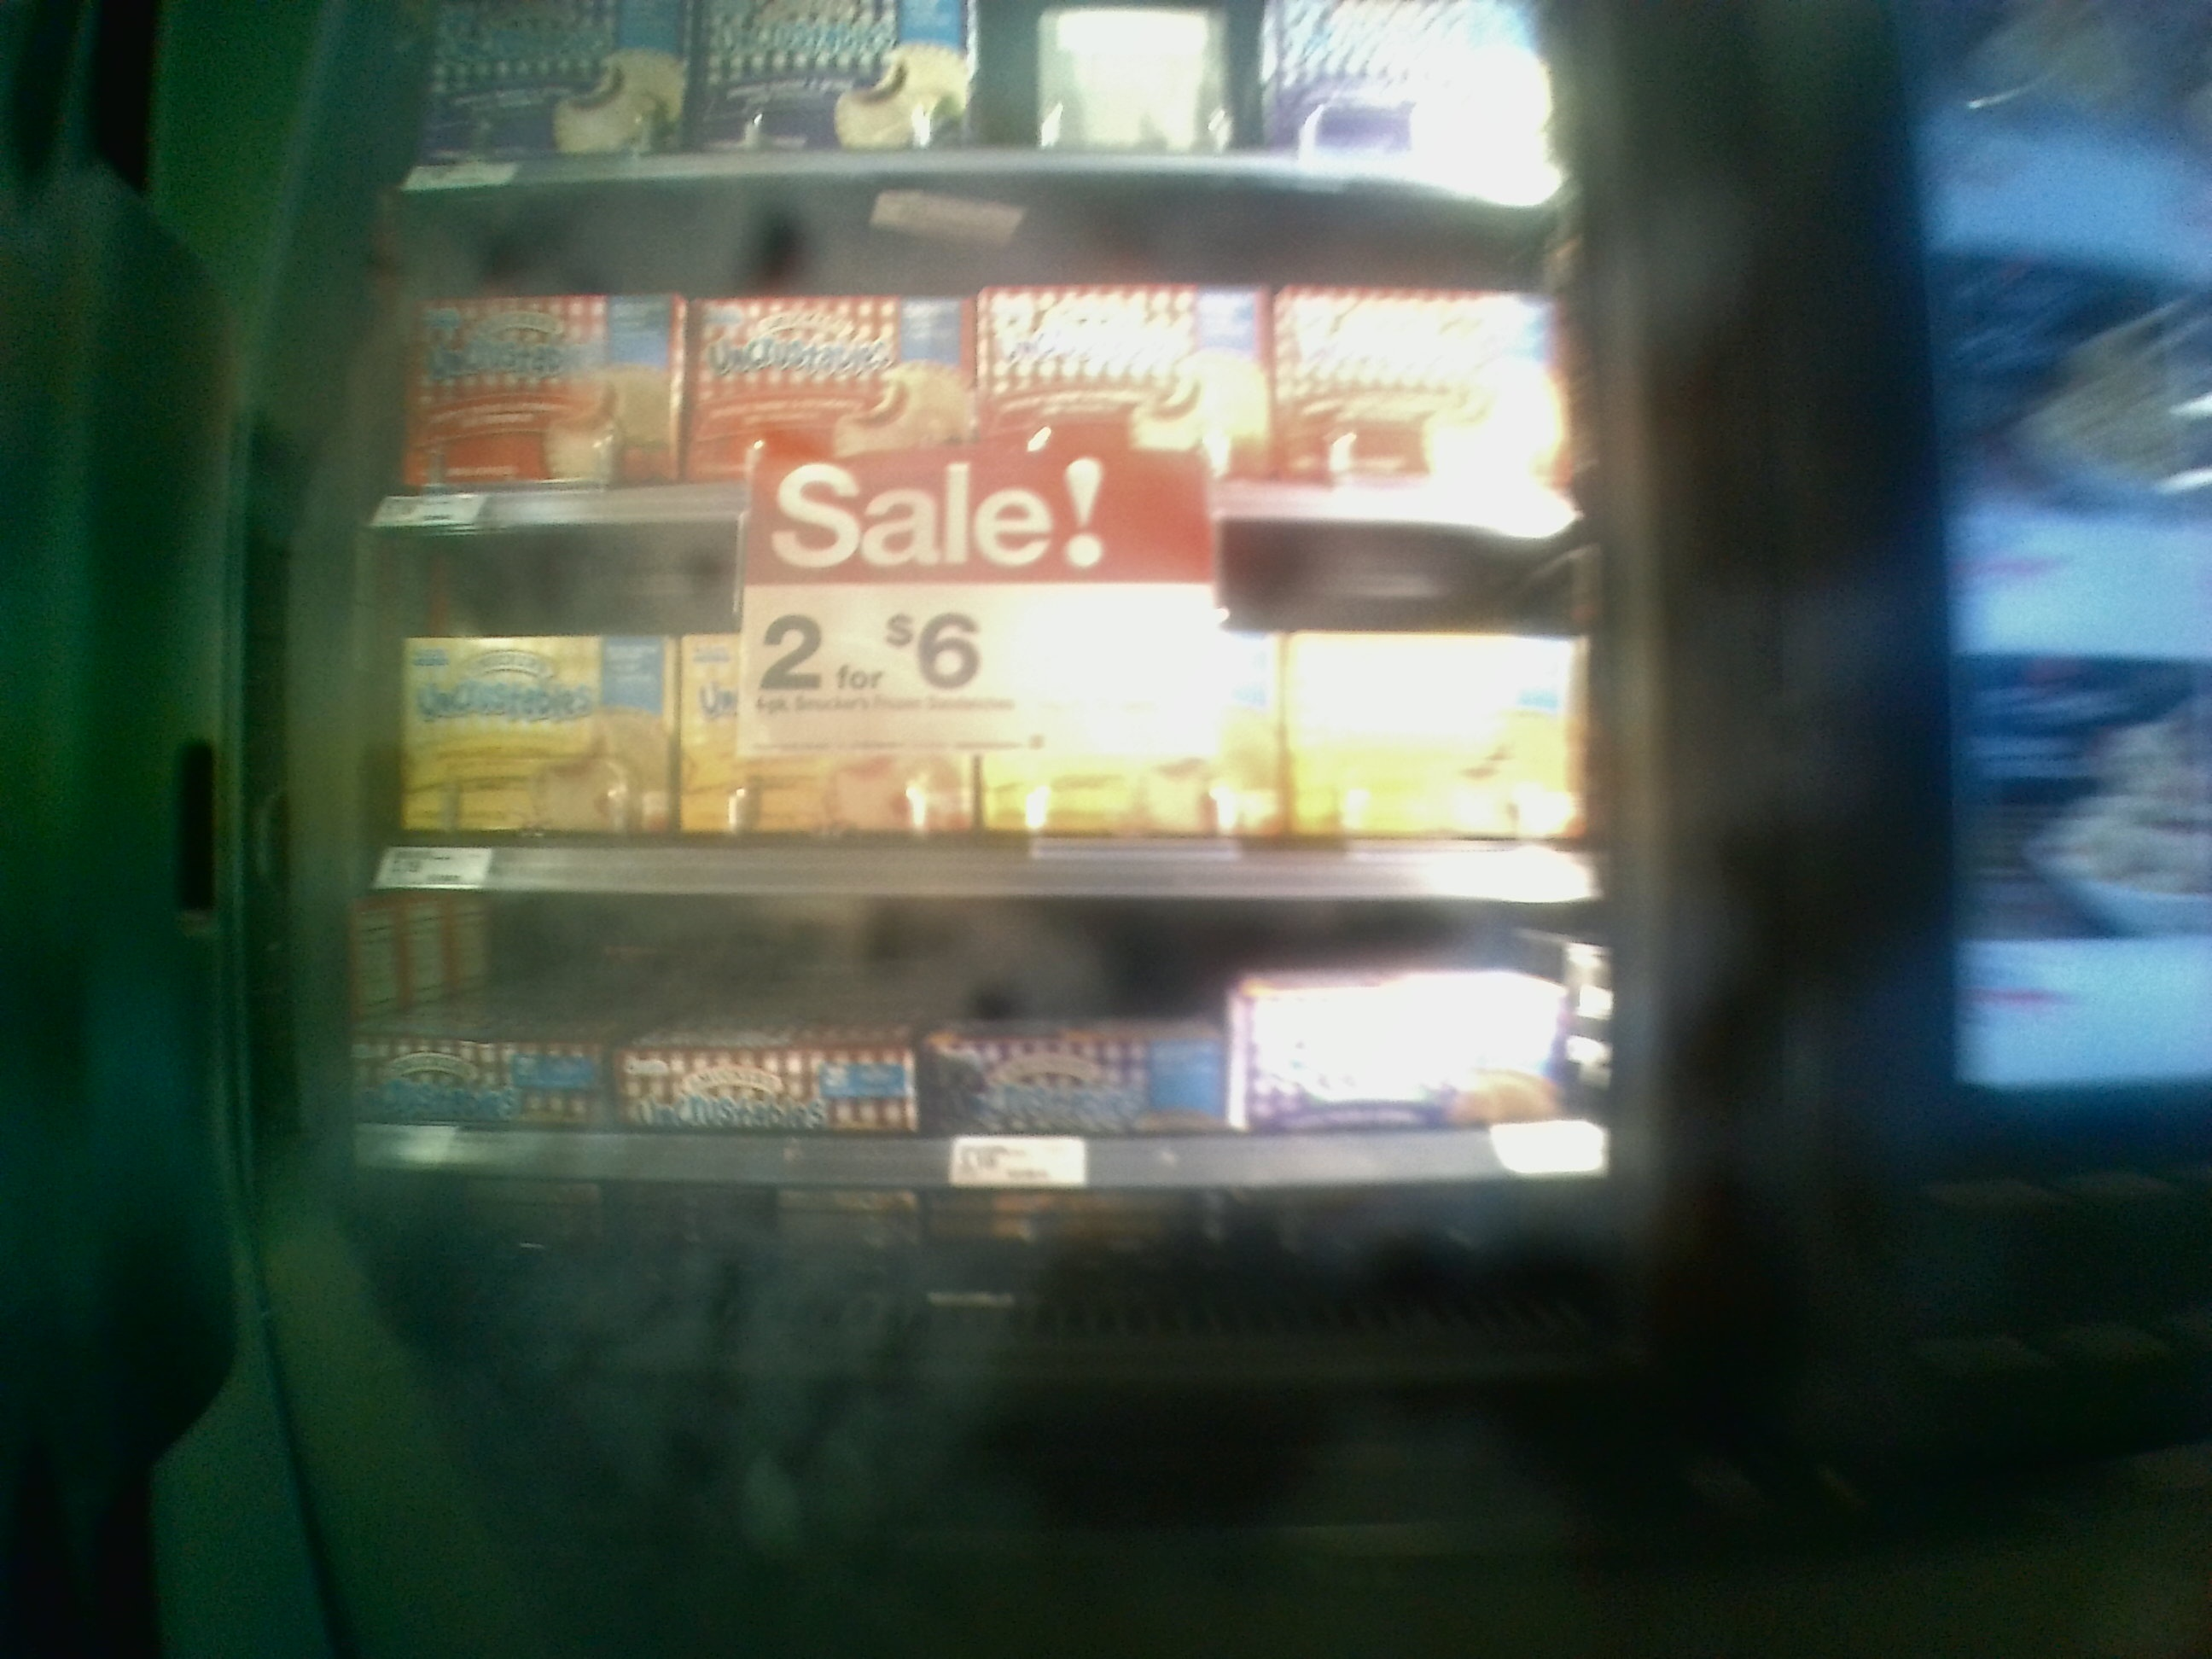shelf: (361, 903, 1639, 1330), (380, 538, 1604, 906), (374, 193, 1587, 535)
